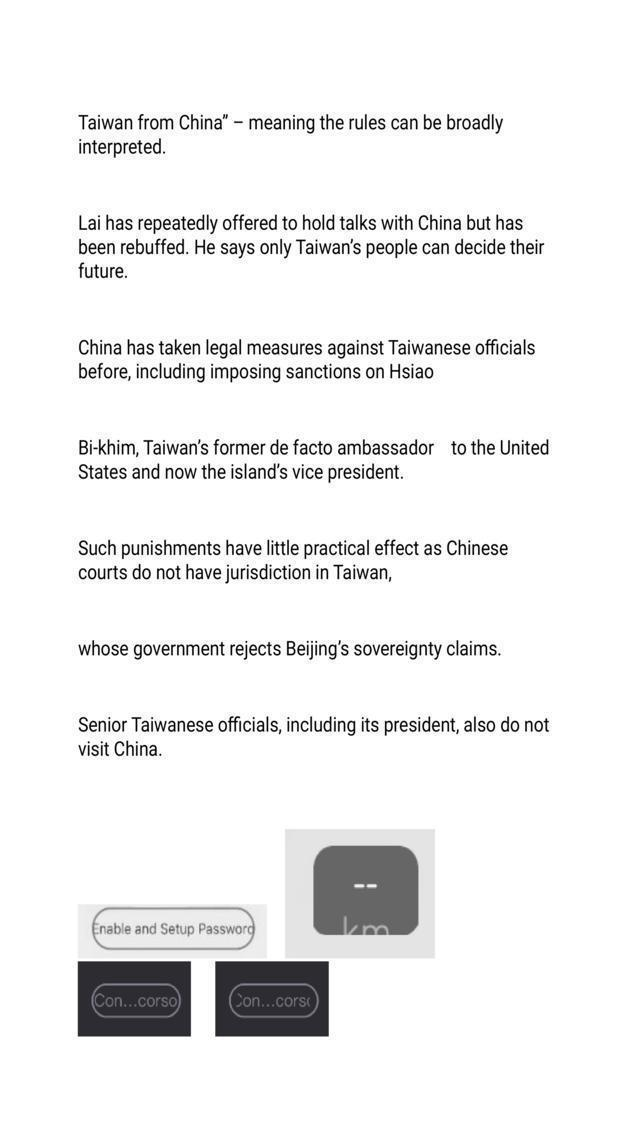Text: (70, 236, 550, 262), (74, 533, 516, 561), (72, 109, 516, 136), (72, 334, 546, 359), (71, 712, 559, 736), (72, 636, 510, 662), (71, 208, 529, 232), (70, 436, 556, 458), (72, 360, 446, 387), (74, 562, 401, 589), (72, 460, 410, 485), (72, 736, 173, 761), (72, 136, 170, 160), (72, 262, 130, 285)
TextButton: (313, 845, 421, 938), (92, 907, 256, 950), (90, 982, 181, 1022), (230, 982, 320, 1020)
WS1: (338, 906, 401, 952), (238, 914, 272, 946), (72, 987, 108, 1014), (74, 919, 110, 939), (165, 991, 192, 1016)
